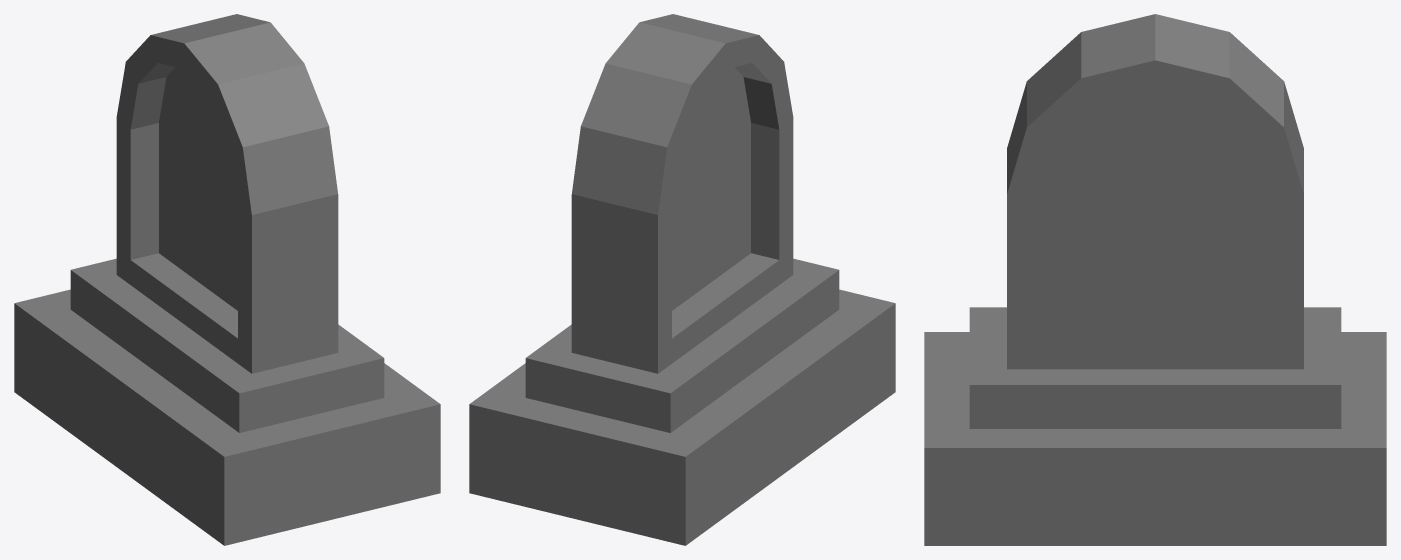
The model's file is stone_7.fbx.
The picture shows the model from 3 angles, left to right: view 1: azimuth 30°, elevation 25°; view 2: azimuth 150°, elevation 25°; view 3: azimuth 270°, elevation 25°; orthographic projection. The views are drawn at different scales.
Parts seen in each view (by area): view 1: stone_7; view 2: stone_7; view 3: stone_7.
Boxes of the visible parts, x1,y1,x2,y2 form: stone_7: (14,14,440,545); stone_7: (469,14,895,545); stone_7: (924,14,1386,545).
Bounding box in the file's own units: 67.43 × 122 × 113.
